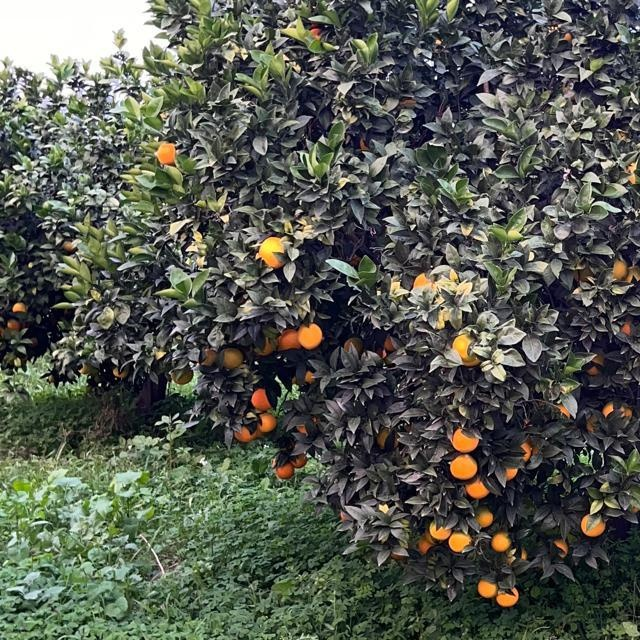orange: (450, 328, 482, 364), (450, 426, 478, 450), (262, 236, 284, 266), (450, 454, 474, 478), (581, 513, 605, 535), (300, 321, 322, 345), (474, 578, 496, 598), (277, 327, 299, 347), (497, 588, 519, 606), (467, 479, 489, 497), (233, 424, 253, 442), (273, 460, 293, 478), (202, 346, 222, 364), (256, 335, 274, 355), (158, 143, 174, 165), (586, 355, 602, 377), (223, 347, 241, 365), (474, 507, 492, 525), (416, 535, 434, 553), (251, 391, 269, 409), (260, 413, 276, 433), (426, 525, 446, 541), (300, 369, 320, 385), (412, 273, 432, 289), (382, 333, 400, 349), (609, 260, 625, 278), (450, 533, 468, 549), (380, 430, 396, 448), (604, 400, 624, 414), (624, 163, 636, 185), (345, 337, 361, 353), (587, 417, 603, 433), (172, 368, 190, 382), (297, 417, 315, 431), (507, 549, 527, 561), (503, 464, 519, 478), (556, 403, 572, 417), (493, 534, 507, 550), (554, 541, 568, 557), (520, 442, 530, 462), (8, 318, 22, 332), (11, 301, 25, 315), (113, 366, 129, 378), (290, 454, 306, 466), (391, 548, 405, 560), (558, 31, 572, 41), (61, 240, 75, 250), (627, 271, 640, 281), (400, 98, 416, 106), (622, 322, 632, 334), (630, 502, 640, 514), (358, 140, 368, 152), (533, 445, 541, 459), (377, 346, 385, 358), (310, 28, 322, 36), (622, 408, 634, 416), (341, 510, 349, 520), (79, 368, 91, 372)
